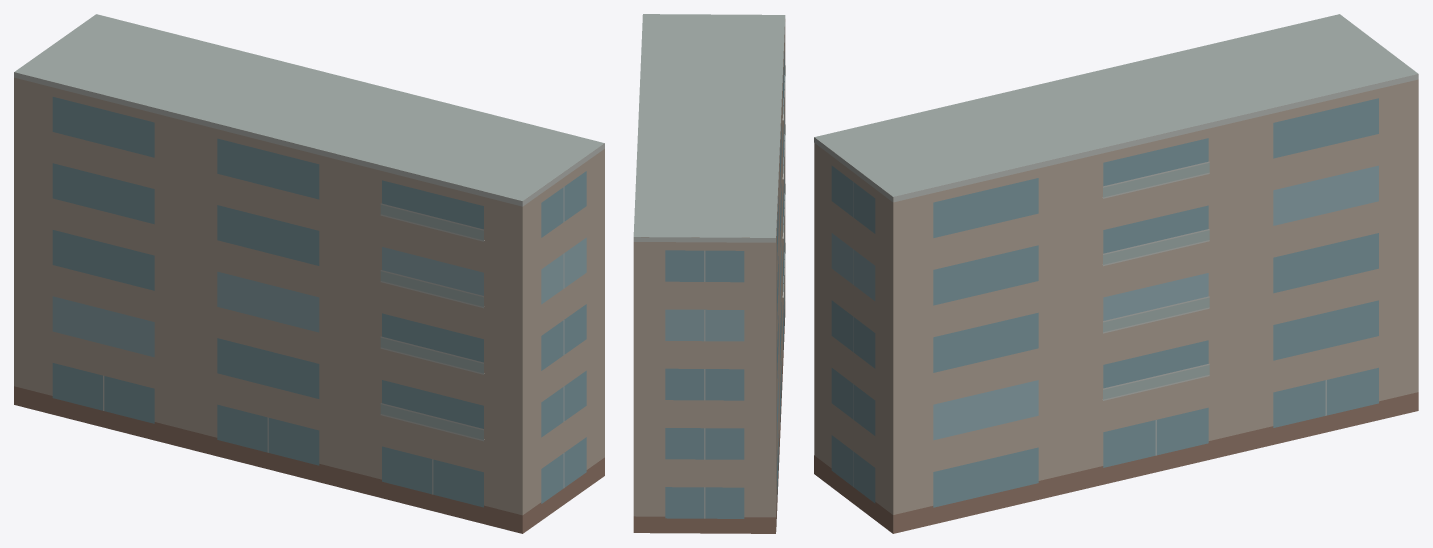
Rendered from survey-upis-32658709.glb.
The picture shows the model from 3 angles, left to right: view 1: azimuth 30°, elevation 25°; view 2: azimuth 150°, elevation 25°; view 3: azimuth 270°, elevation 25°; orthographic projection. The views are drawn at different scales.
Parts seen in each view (by area): view 1: survey-upis-32658709.tmp; view 2: survey-upis-32658709.tmp; view 3: survey-upis-32658709.tmp.
Part boxes in pixels (x1,y1,x2,y2): survey-upis-32658709.tmp: (14,14,604,533); survey-upis-32658709.tmp: (633,14,785,533); survey-upis-32658709.tmp: (814,14,1418,533).
Size of the model in its own units: 17.36 by 14.9 by 24.24.
